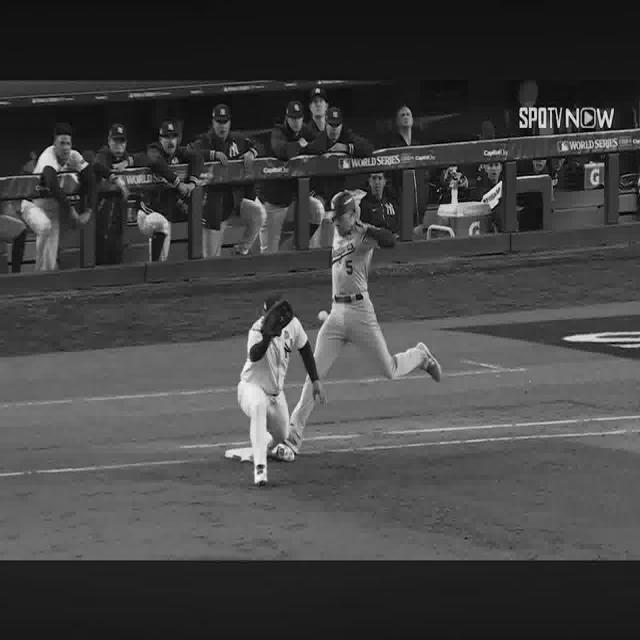base: (224, 447, 254, 462)
baseball: (319, 311, 327, 320)
baseball_glove: (262, 300, 294, 337)
shoe: (416, 343, 442, 382), (270, 443, 296, 462), (285, 426, 303, 453), (254, 465, 268, 487)
